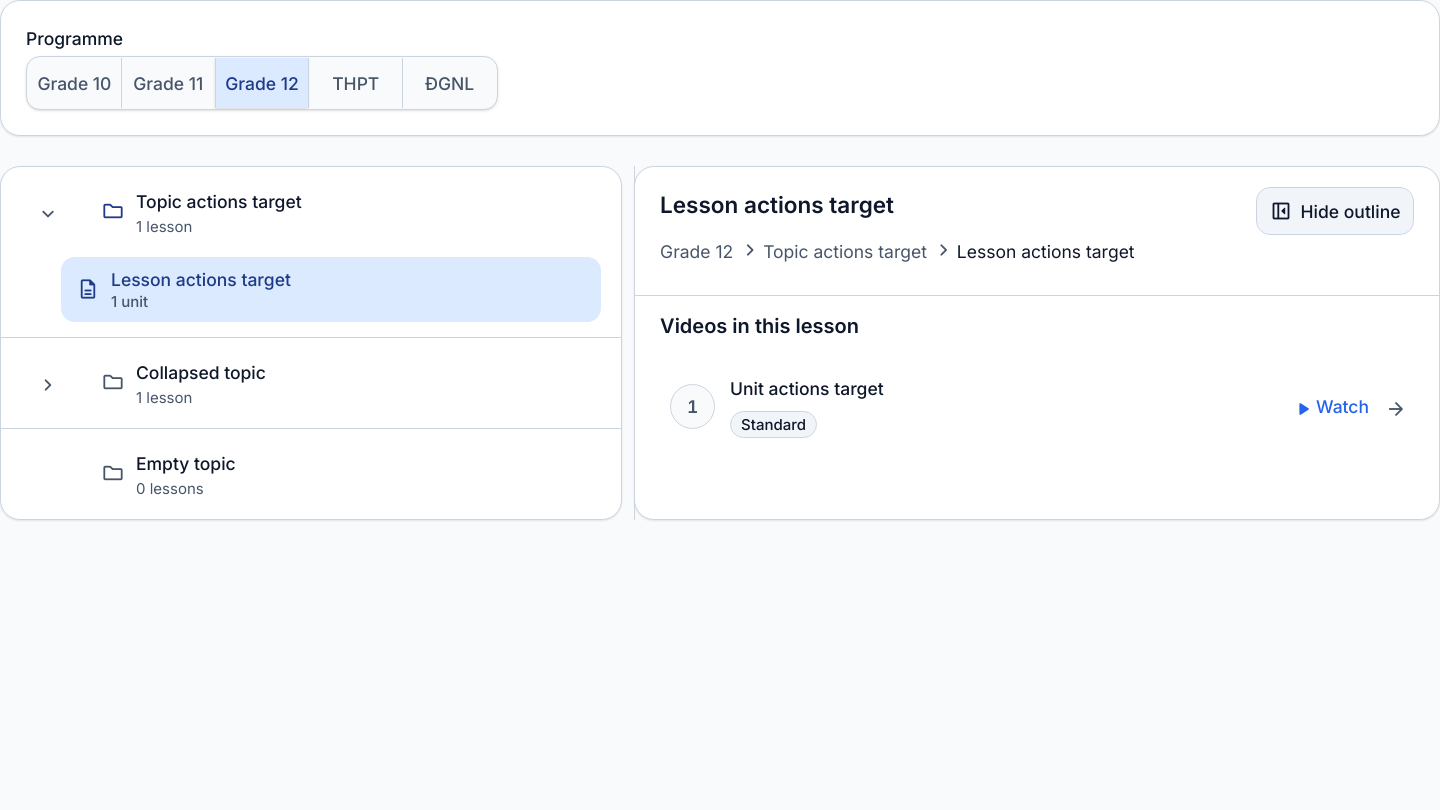
Test: CurriculumNavigator › renders the teacher lecture explorer with programme segments, icons, toggles, and breadcrumbs
Expected: the navigation bar named "Lesson breadcrumbs" reads "Grade 12 Topic actions target Lesson actions target", [660, 227, 1135, 275]
Expected: the button with aria-label "Topic actions target, 1 lesson" shows "1 lesson", [86, 177, 606, 247]
Click the button named "Collapse Topic actions target" at (46, 212), box [16, 182, 76, 242]
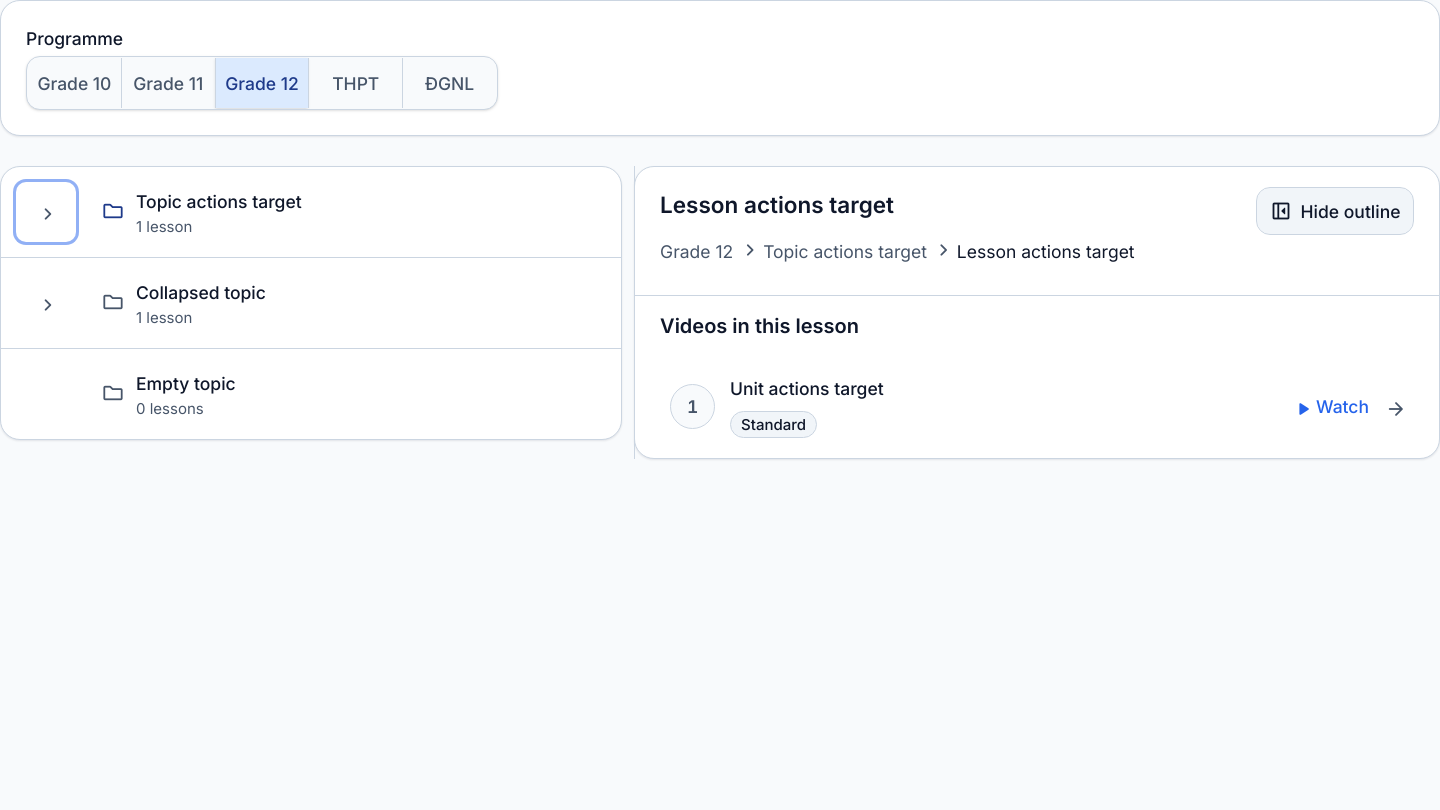
Click the button named "Expand Topic actions target" at (46, 212), box [16, 182, 76, 242]
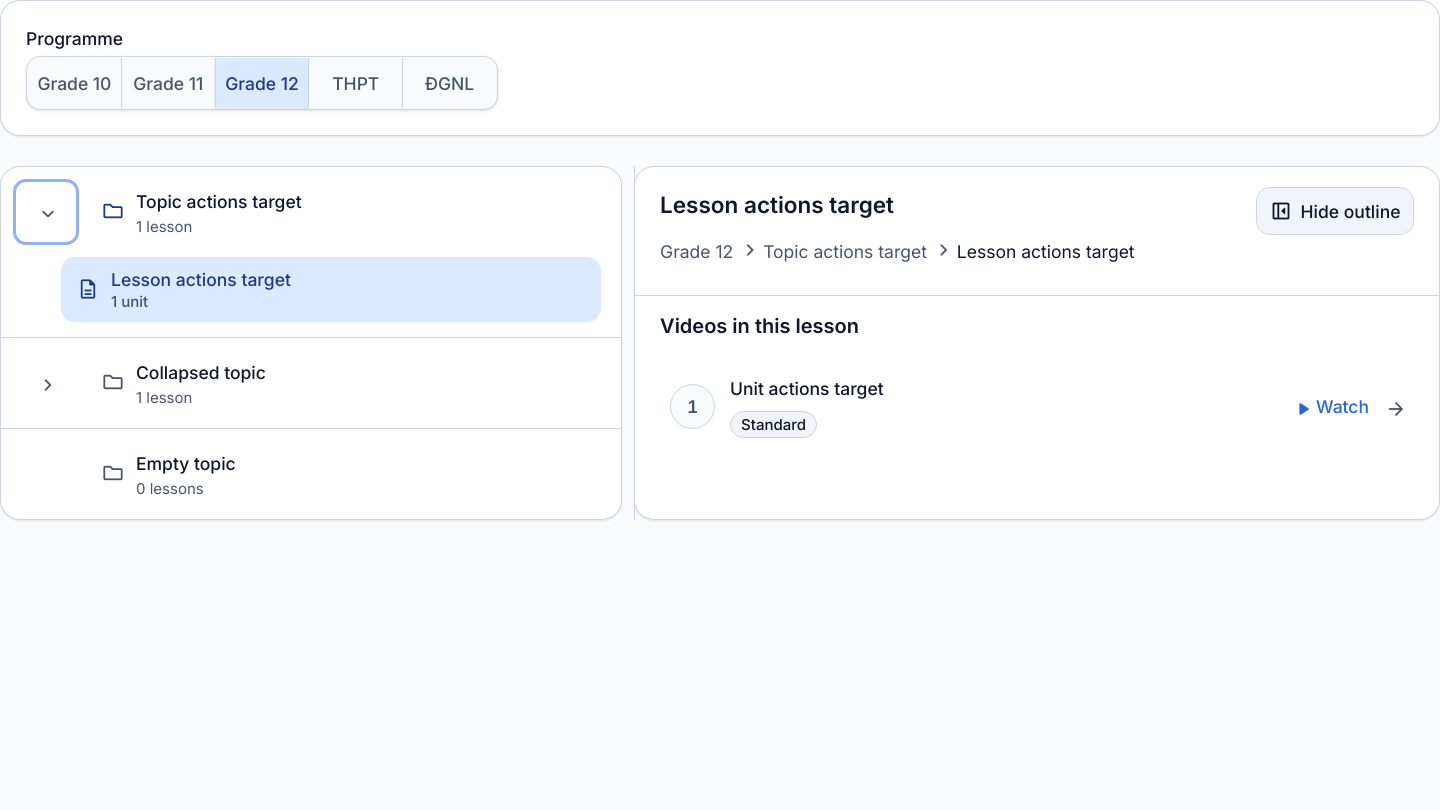
Now the button with aria-label "Lesson actions target, 1 unit" is shown, box [61, 257, 601, 322]
Click the button named "Expand Collapsed topic" at (46, 383), box [16, 353, 76, 413]
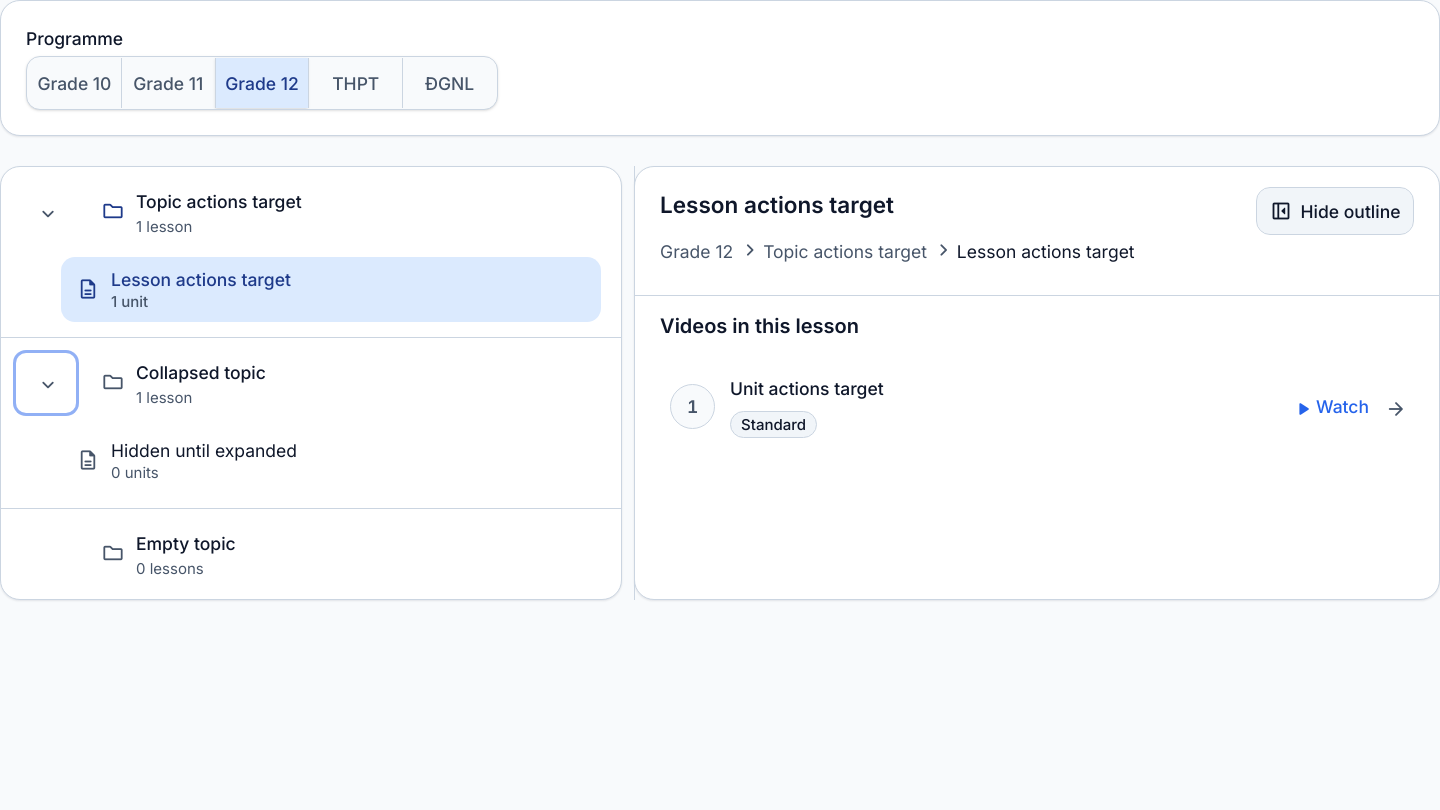
Now the button "Hidden until expanded 0 units" is shown, box [61, 428, 601, 493]
Now the button named "Collapse Collapsed topic" is expanded, box [16, 353, 76, 413]
